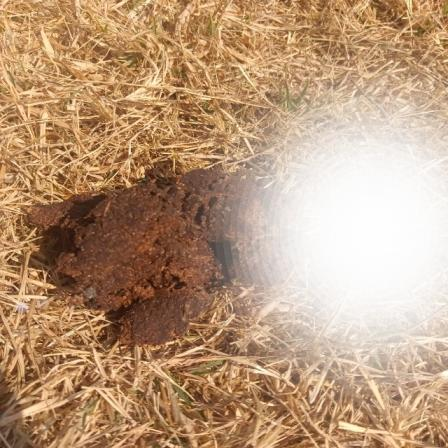dog-poop: (39, 174, 298, 298)
